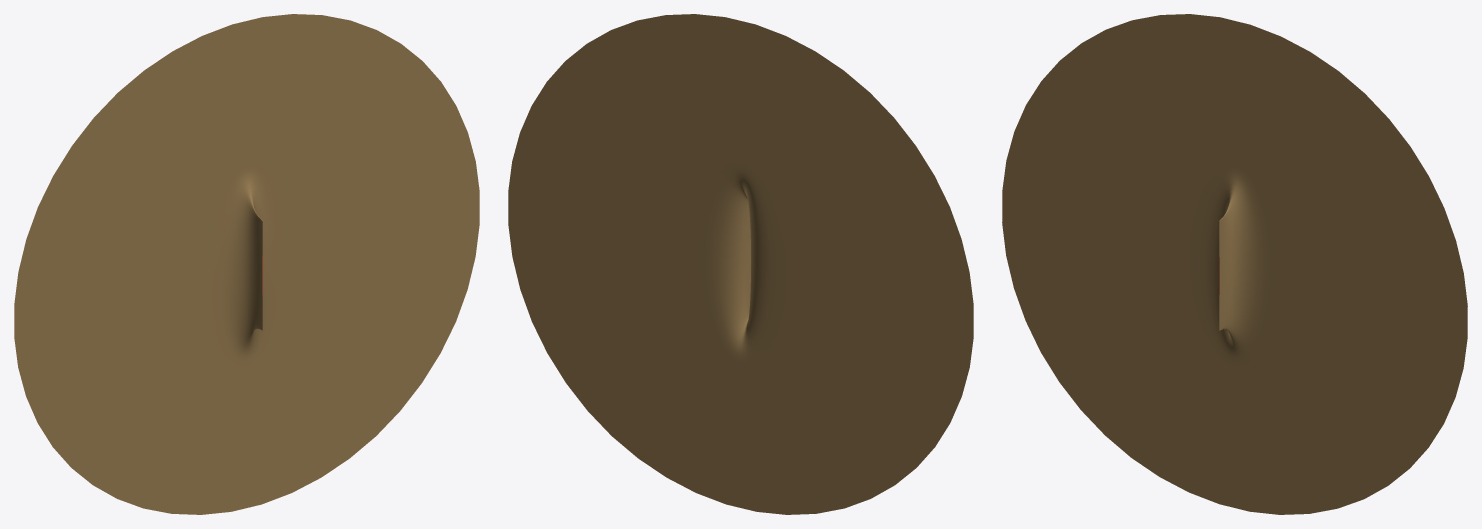
The model's file is portal_mesh.fbx.
3 views of the same model, side by side, from view 1: azimuth 30°, elevation 25°; view 2: azimuth 150°, elevation 25°; view 3: azimuth 330°, elevation 25° (orthographic).
Parts seen in each view (by area): view 1: portal base; view 2: portal base; view 3: portal base.
Part boxes in pixels (left/top/right/bottom): portal base: left=14, top=14, right=479, bottom=514; portal base: left=508, top=14, right=973, bottom=514; portal base: left=1002, top=14, right=1467, bottom=514.
Bounding box in the file's own units: 150 × 150 × 8.69.
